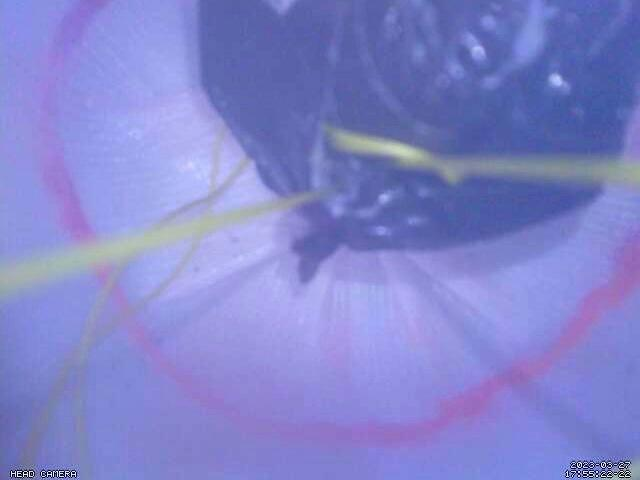head: (30, 2, 640, 447)
